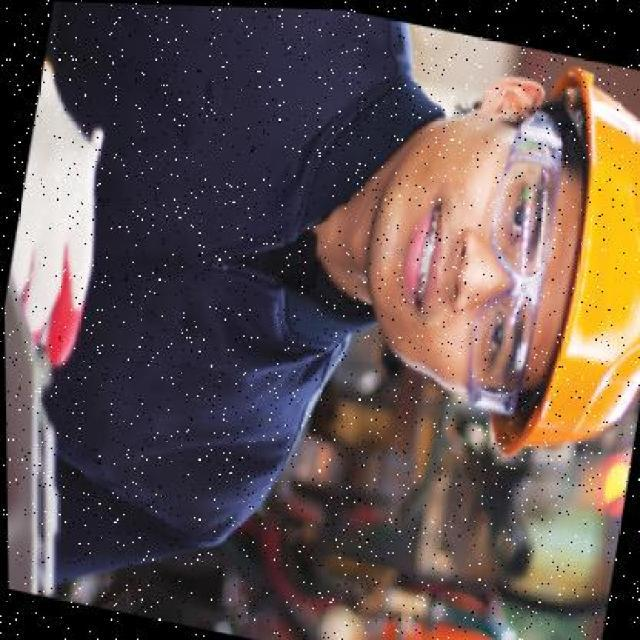helmet: (474, 59, 638, 510)
vest: (0, 0, 465, 583)
